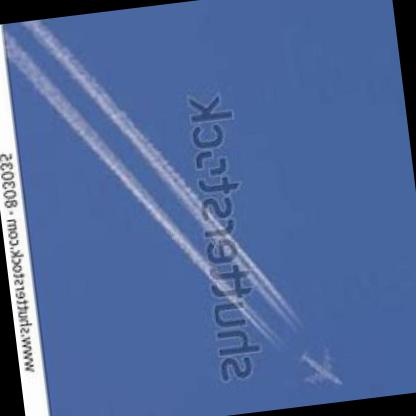plane: (288, 335, 352, 399)
